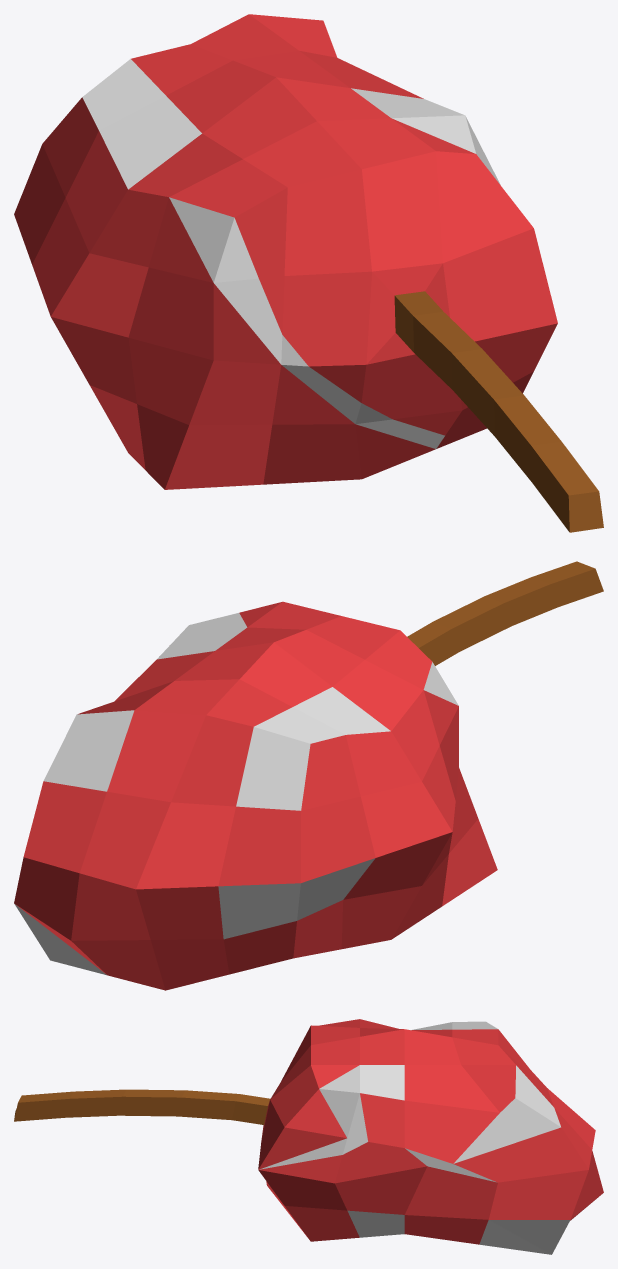
File: MeatString.fbx
The picture shows the model from 3 angles, top to bottom: view 1: azimuth 30°, elevation 25°; view 2: azimuth 150°, elevation 25°; view 3: azimuth 270°, elevation 25°; orthographic projection. The views are drawn at different scales.
Parts seen in each view (by area): view 1: Cube; view 2: Cube; view 3: Cube.
Boxes of the visible parts, <box> form: Cube: <box>14,14,603,532</box>; Cube: <box>14,561,603,990</box>; Cube: <box>14,1019,603,1254</box>.
Size of the model in its own units: 286 by 233 by 629.
